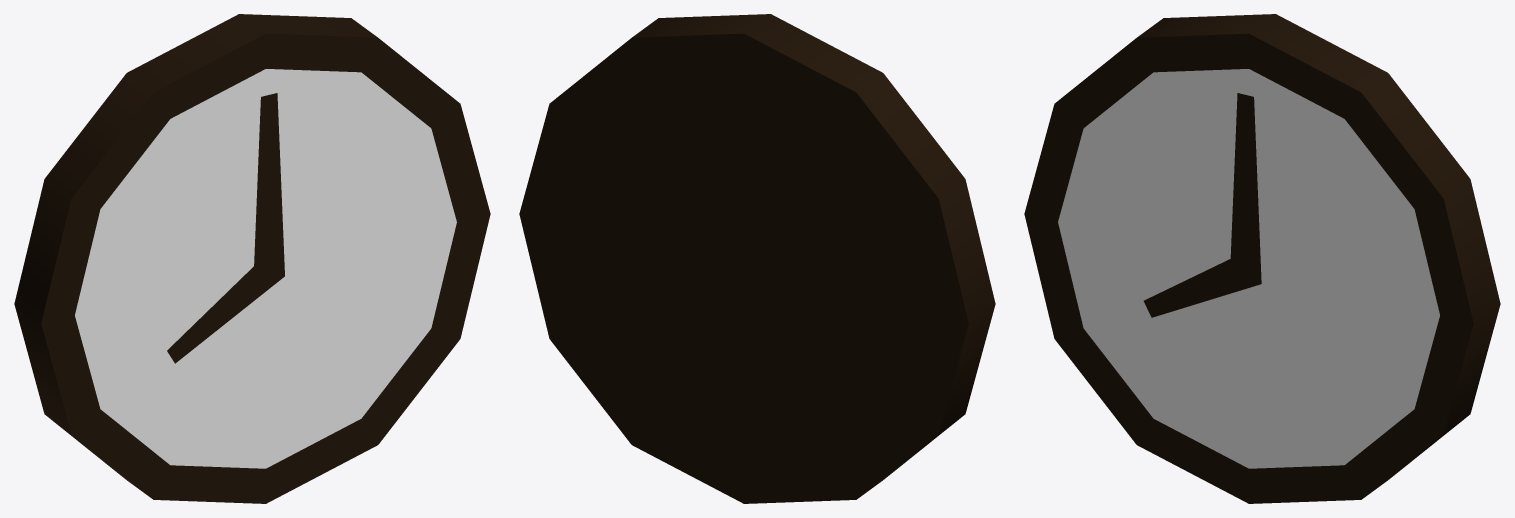
The model's file is Clock.fbx.
The picture shows the model from 3 angles, left to right: view 1: azimuth 30°, elevation 25°; view 2: azimuth 150°, elevation 25°; view 3: azimuth 330°, elevation 25°; orthographic projection.
Visible parts, largest first — view 1: Clock; view 2: Clock; view 3: Clock.
Part boxes in pixels (x1=…): Clock: x1=14, y1=14, x2=490, y2=503; Clock: x1=519, y1=14, x2=995, y2=503; Clock: x1=1024, y1=14, x2=1500, y2=503.
Size of the model in its own units: 18.24 by 18.24 by 2.12.
